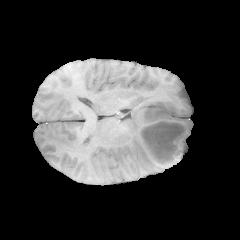glioma: (129, 105, 190, 169)
